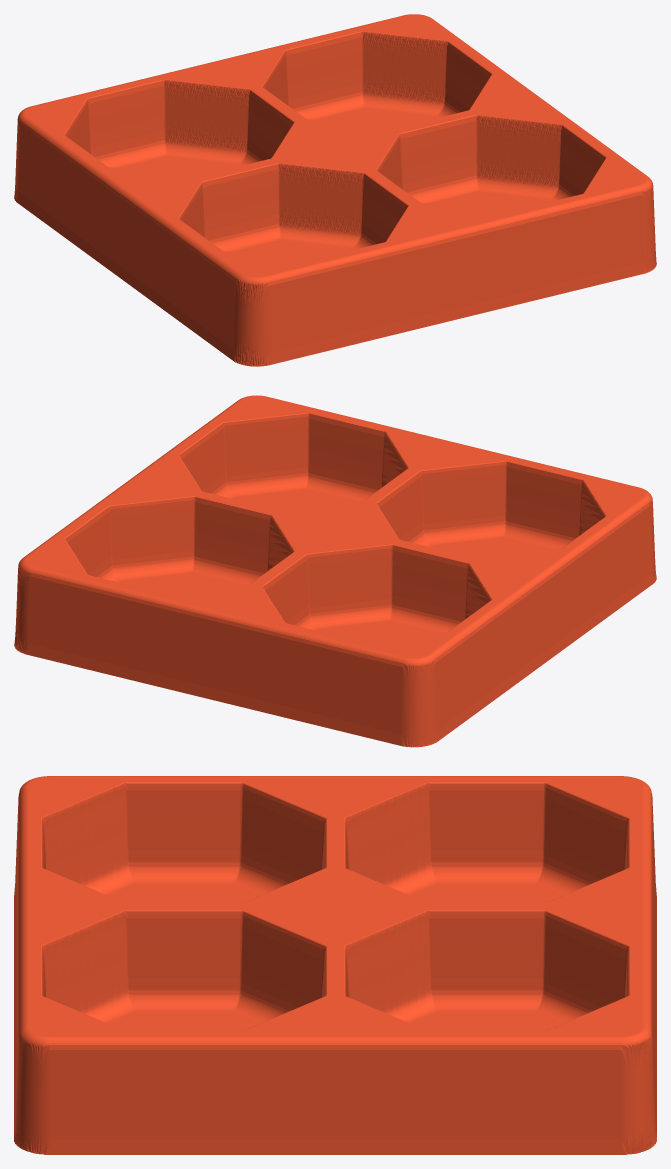
The model's file is mold.glb.
3 views of the same model, one above another, from view 1: azimuth 30°, elevation 25°; view 2: azimuth 150°, elevation 25°; view 3: azimuth 270°, elevation 25° (orthographic). The views are drawn at different scales.
Visible parts, largest first — view 1: geometry_0; view 2: geometry_0; view 3: geometry_0.
Part boxes in pixels (x1,y1,x2,y2): geometry_0: (14, 14, 656, 366); geometry_0: (14, 395, 656, 747); geometry_0: (14, 776, 656, 1154).
Bounding box in the file's own units: 0.1608 × 0.031 × 0.1608.
